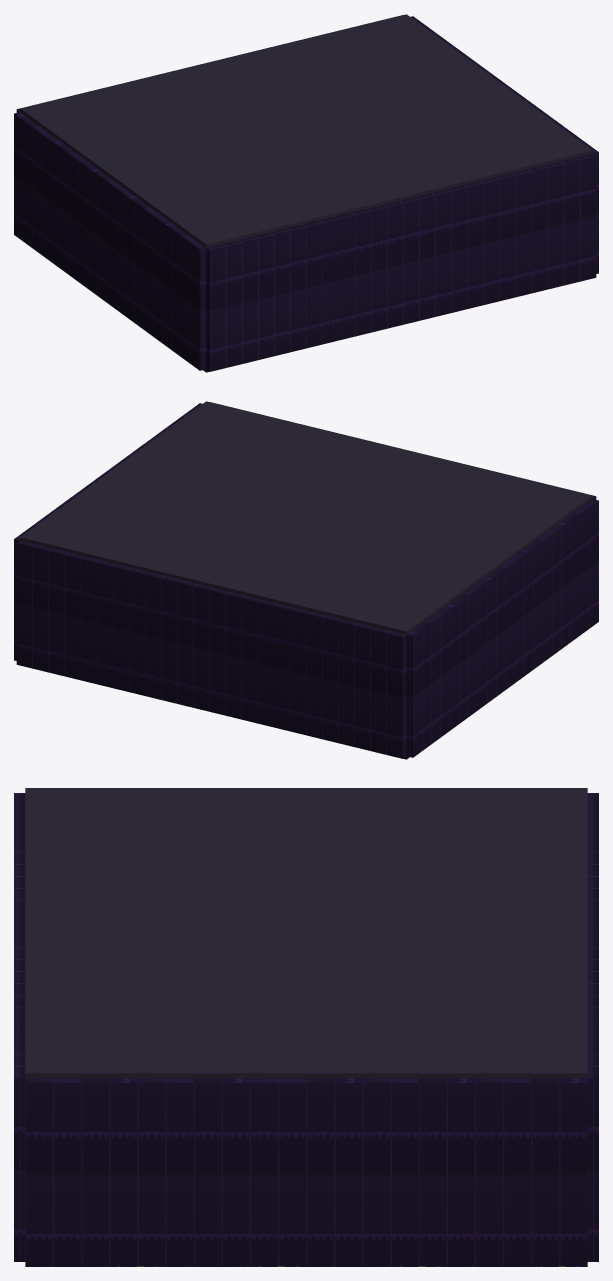
The picture shows the model from 3 angles, top to bottom: view 1: azimuth 30°, elevation 25°; view 2: azimuth 150°, elevation 25°; view 3: azimuth 270°, elevation 25°; orthographic projection. The views are drawn at different scales.
Parts seen in each view (by area): view 1: Escena_solido_unido_centro_fondo, S_Pared_Frente, S_Pared_Izq, Escena_solido_unido_centro_frente, S_Pared_Der, Escena_solido_unido_izq_fondo; view 2: Escena_solido_unido_centro_fondo, S_Pared_Fondo, S_Pared_Izq, S_Pared_Der, Escena_solido_unido_izq_fondo; view 3: Escena_solido_unido_centro_fondo, S_Pared_Der, S_Pared_Fondo, S_Pared_Frente, Escena_solido_unido_der_fondo.
Boxes of the visible parts, x1,y1,x2,y2 form: Escena_solido_unido_centro_fondo: (21, 14, 591, 244); S_Pared_Frente: (206, 154, 596, 371); S_Pared_Izq: (14, 112, 206, 370); Escena_solido_unido_centro_frente: (206, 150, 592, 247); S_Pared_Der: (410, 16, 598, 273); Escena_solido_unido_izq_fondo: (20, 109, 206, 247); Escena_solido_unido_centro_fondo: (20, 401, 591, 634); S_Pared_Fondo: (16, 541, 406, 758); S_Pared_Izq: (406, 499, 598, 757); S_Pared_Der: (14, 403, 202, 660); Escena_solido_unido_izq_fondo: (406, 496, 592, 634); Escena_solido_unido_centro_fondo: (25, 788, 587, 1073); S_Pared_Der: (25, 1078, 587, 1266); S_Pared_Fondo: (587, 793, 598, 1261); S_Pared_Frente: (14, 793, 25, 1261); Escena_solido_unido_der_fondo: (25, 1073, 587, 1078).
Size of what is drawn, in the model's own units: 12.4 by 4.55 by 10.4.
Materials: 88 (59 with a texture image).
